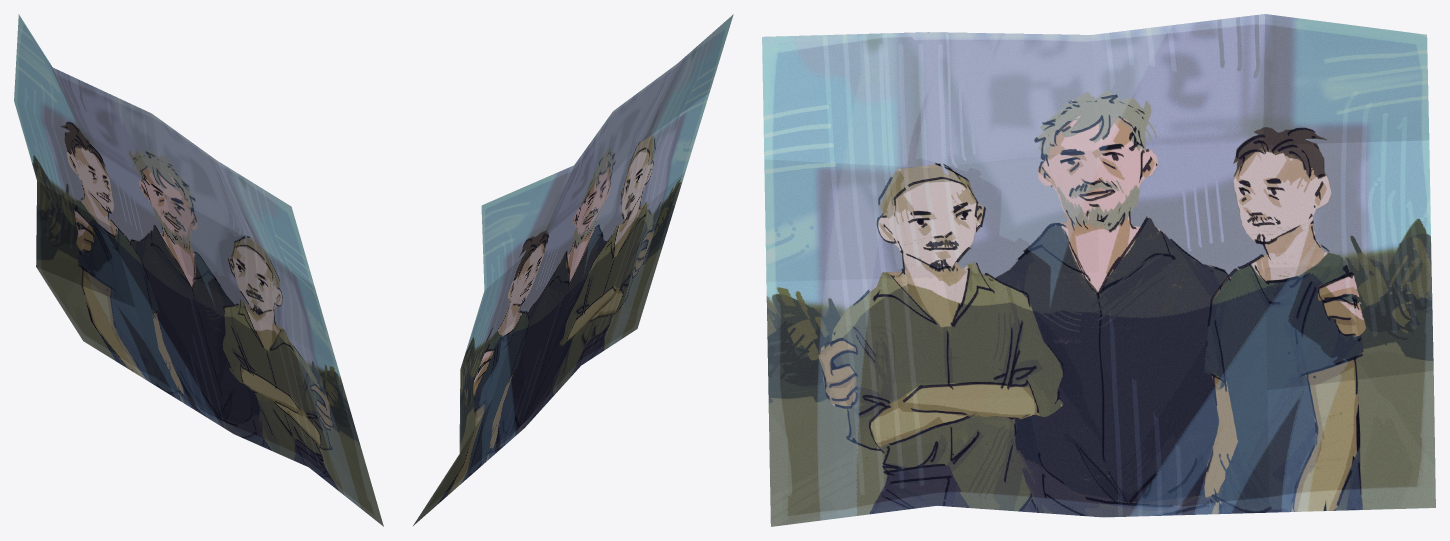
Rendered from BrotherPhoto.fbx.
3 views of the same model, side by side, from view 1: azimuth 30°, elevation 25°; view 2: azimuth 150°, elevation 25°; view 3: azimuth 270°, elevation 25° (orthographic). The views are drawn at different scales.
Visible parts, largest first — view 1: Plane.001; view 2: Plane.001; view 3: Plane.001.
Boxes of the visible parts, box(x1,y1,x2,y2) form: Plane.001: box(14, 14, 383, 526); Plane.001: box(413, 14, 733, 525); Plane.001: box(762, 14, 1435, 526).
Bounding box in the file's own units: 40.91 × 102 × 144.
1 material, 1 textured.
